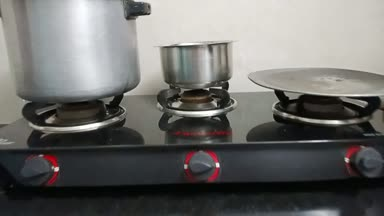flame_gas_off: (17, 96, 125, 187), (284, 93, 384, 178), (167, 85, 235, 186)
